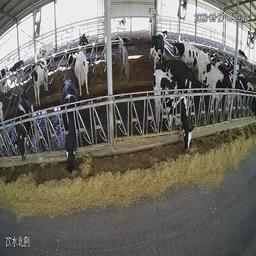cow: (151, 67, 193, 167), (168, 53, 214, 129), (199, 53, 235, 127), (56, 74, 80, 179), (11, 89, 34, 180), (29, 55, 51, 109), (173, 35, 201, 74), (238, 65, 255, 126), (75, 49, 91, 100), (150, 30, 166, 70), (7, 52, 25, 80), (36, 39, 55, 59), (77, 26, 90, 53), (67, 49, 77, 73)
